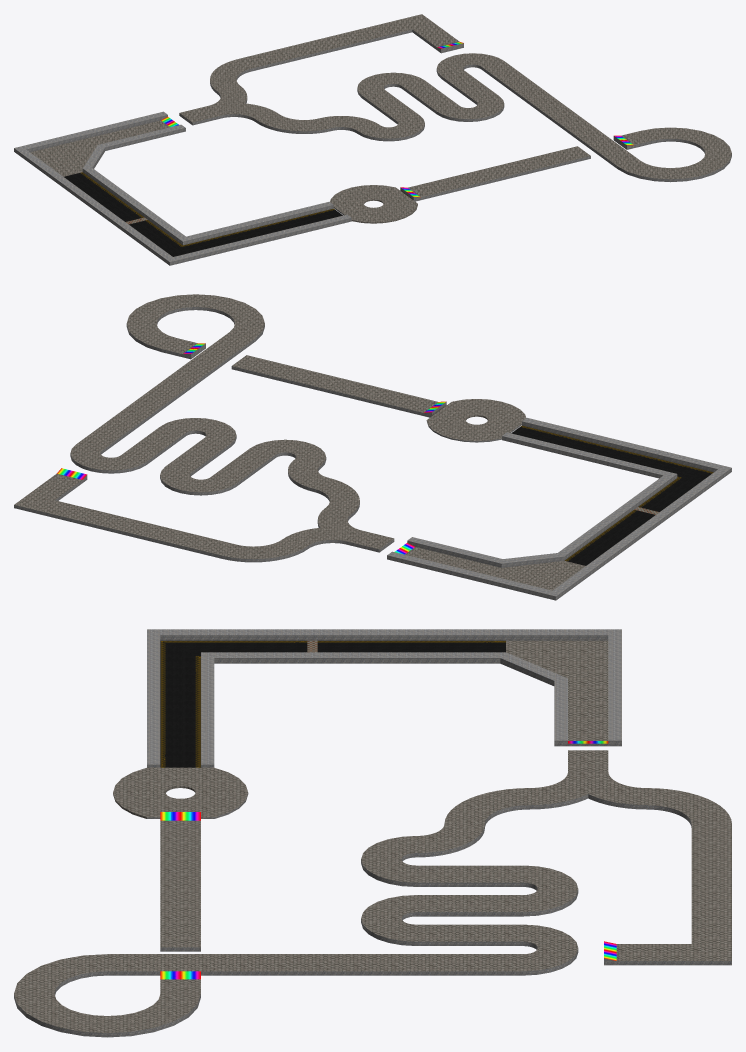
3 views of the same model, one above another, from view 1: azimuth 30°, elevation 25°; view 2: azimuth 150°, elevation 25°; view 3: azimuth 270°, elevation 25° (orthographic). The views are drawn at different scales.
Visible parts, largest first — view 1: Lava_Fortress_SKP__road, Lava_Fortress_SKP__wall, Lava_Fortress_SKP__carpet; view 2: Lava_Fortress_SKP__road, Lava_Fortress_SKP__wall, Lava_Fortress_SKP__carpet, Lava_Fortress_SKP__ef_dushBoard; view 3: Lava_Fortress_SKP__road, Lava_Fortress_SKP__wall, Lava_Fortress_SKP__carpet, Lava_Fortress_SKP__ef_dushBoard.
Boxes of the visible parts, x1=… form: Lava_Fortress_SKP__road: x1=30, y1=14, x2=731, y2=223; Lava_Fortress_SKP__wall: x1=14, y1=29, x2=731, y2=265; Lava_Fortress_SKP__carpet: x1=64, y1=172, x2=342, y2=256; Lava_Fortress_SKP__road: x1=14, y1=294, x2=585, y2=590; Lava_Fortress_SKP__wall: x1=14, y1=307, x2=731, y2=600; Lava_Fortress_SKP__carpet: x1=511, y1=425, x2=713, y2=565; Lava_Fortress_SKP__ef_dushBoard: x1=57, y1=343, x2=446, y2=554; Lava_Fortress_SKP__road: x1=14, y1=640, x2=731, y2=1032; Lava_Fortress_SKP__wall: x1=14, y1=629, x2=731, y2=1037; Lava_Fortress_SKP__carpet: x1=160, y1=640, x2=505, y2=767; Lava_Fortress_SKP__ef_dushBoard: x1=160, y1=741, x2=616, y2=979.
Size of what is drawn, in the model's own units: 100856 by 904 by 76045.
5 materials, 5 textured.
